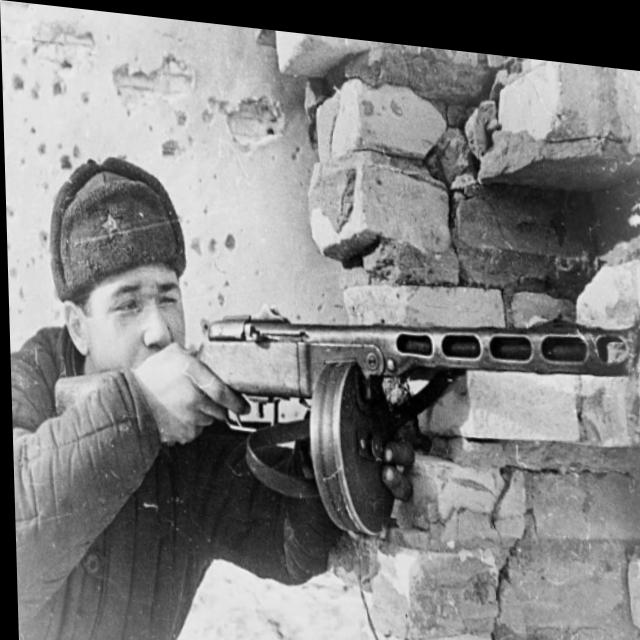other: (3, 140, 245, 640)
